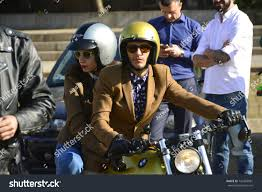helmet: (63, 19, 120, 69), (116, 19, 163, 75)
